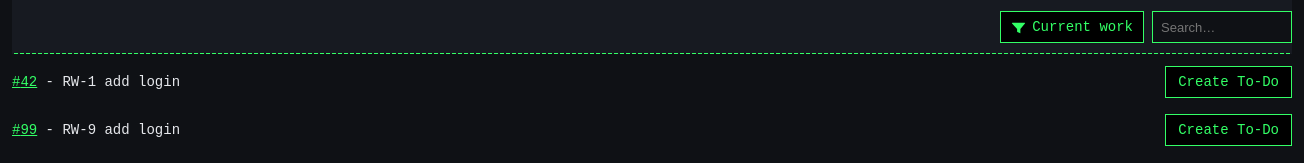
Test: PrPanel › narrows to PRs on in-progress / in-review tickets when Current work is on
Click the button with aria-label "Show only PRs for current work": (1072, 27) [1000,11,1144,43]
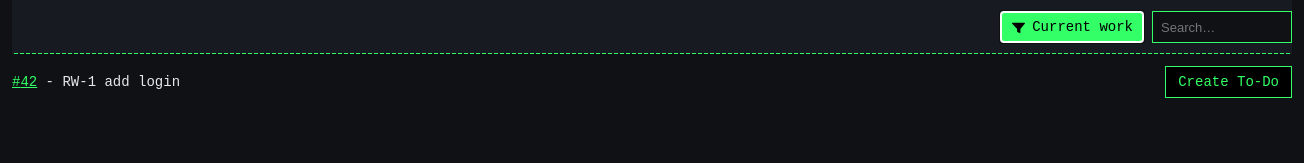
Expected: the link "#42" is shown, [12,74,37,90]
Result: the link "#99" is gone
